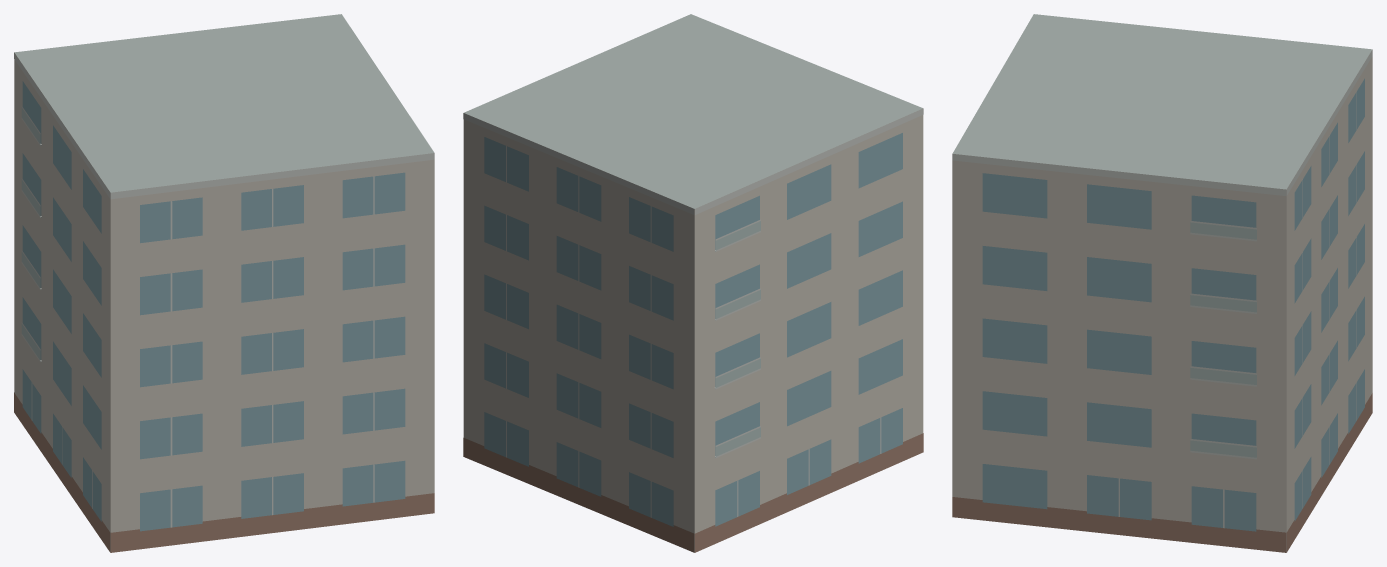
File: survey-upis-32868364.glb
3 renders of one model, left to right at view 1: azimuth 30°, elevation 25°; view 2: azimuth 150°, elevation 25°; view 3: azimuth 270°, elevation 25°, orthographic. The views are drawn at different scales.
Visible parts, largest first — view 1: survey-upis-32868364.tmp; view 2: survey-upis-32868364.tmp; view 3: survey-upis-32868364.tmp.
Part boxes in pixels (x1,y1,x2,y2): survey-upis-32868364.tmp: (14, 14, 434, 552); survey-upis-32868364.tmp: (463, 14, 923, 552); survey-upis-32868364.tmp: (952, 14, 1372, 552).
Size of the model in its own units: 13.68 by 13.2 by 13.84.
